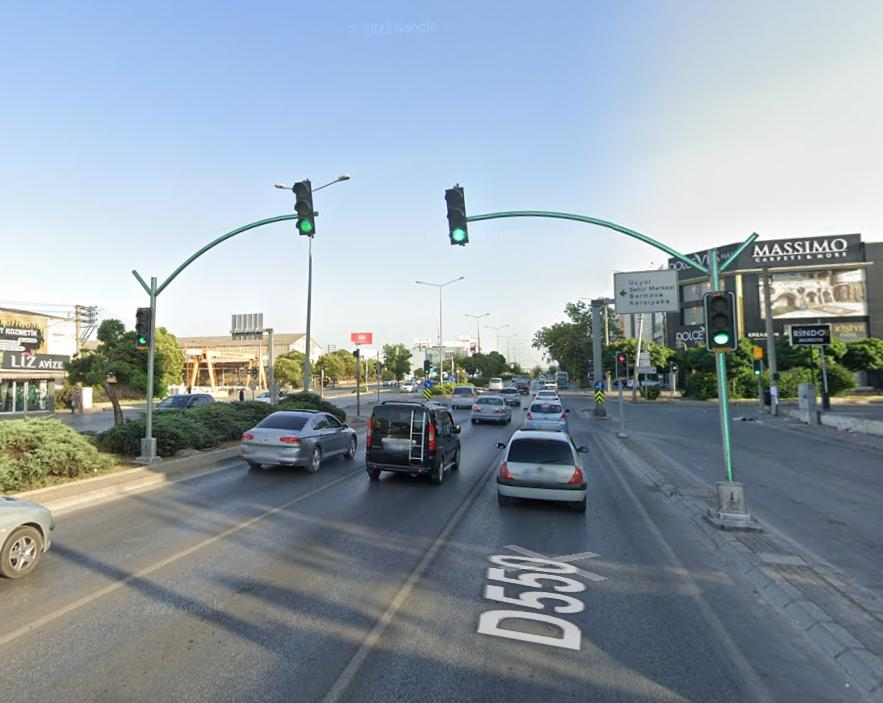greenlight: (706, 290, 731, 347), (292, 182, 315, 235), (449, 185, 467, 244), (133, 306, 151, 347), (424, 360, 430, 374)
redlight: (617, 352, 628, 378)
